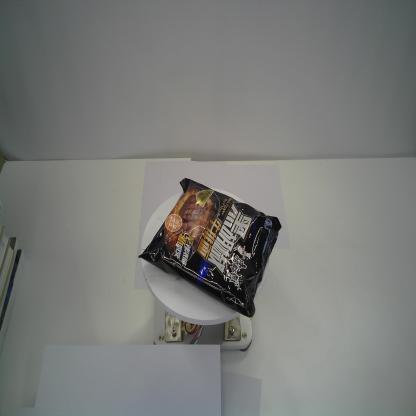Instant Noodles: (139, 177, 283, 318)
